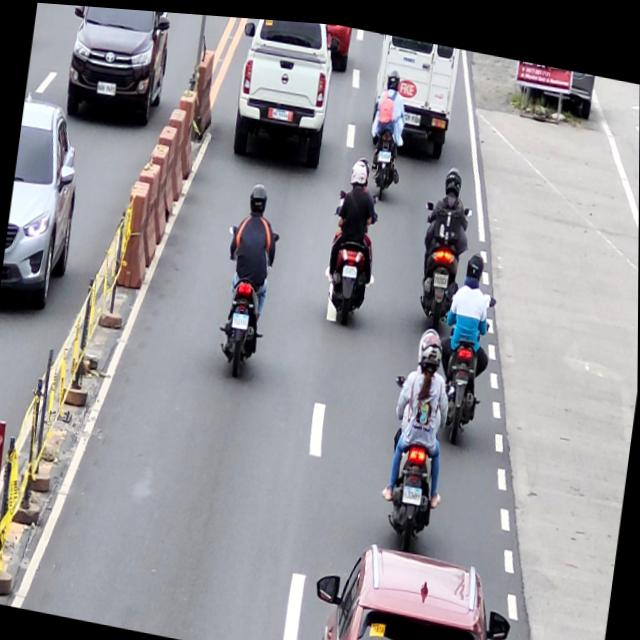Car: (307, 526, 516, 640), (229, 13, 338, 164), (365, 26, 459, 161)
License-Plate: (402, 478, 423, 501), (401, 104, 421, 121), (268, 103, 293, 116), (231, 308, 249, 326), (434, 264, 450, 283), (343, 260, 358, 273), (377, 143, 391, 156)
Motorcycle: (373, 362, 455, 549), (428, 275, 497, 442), (213, 217, 278, 379), (409, 186, 472, 324), (323, 183, 379, 330), (364, 86, 409, 194)
